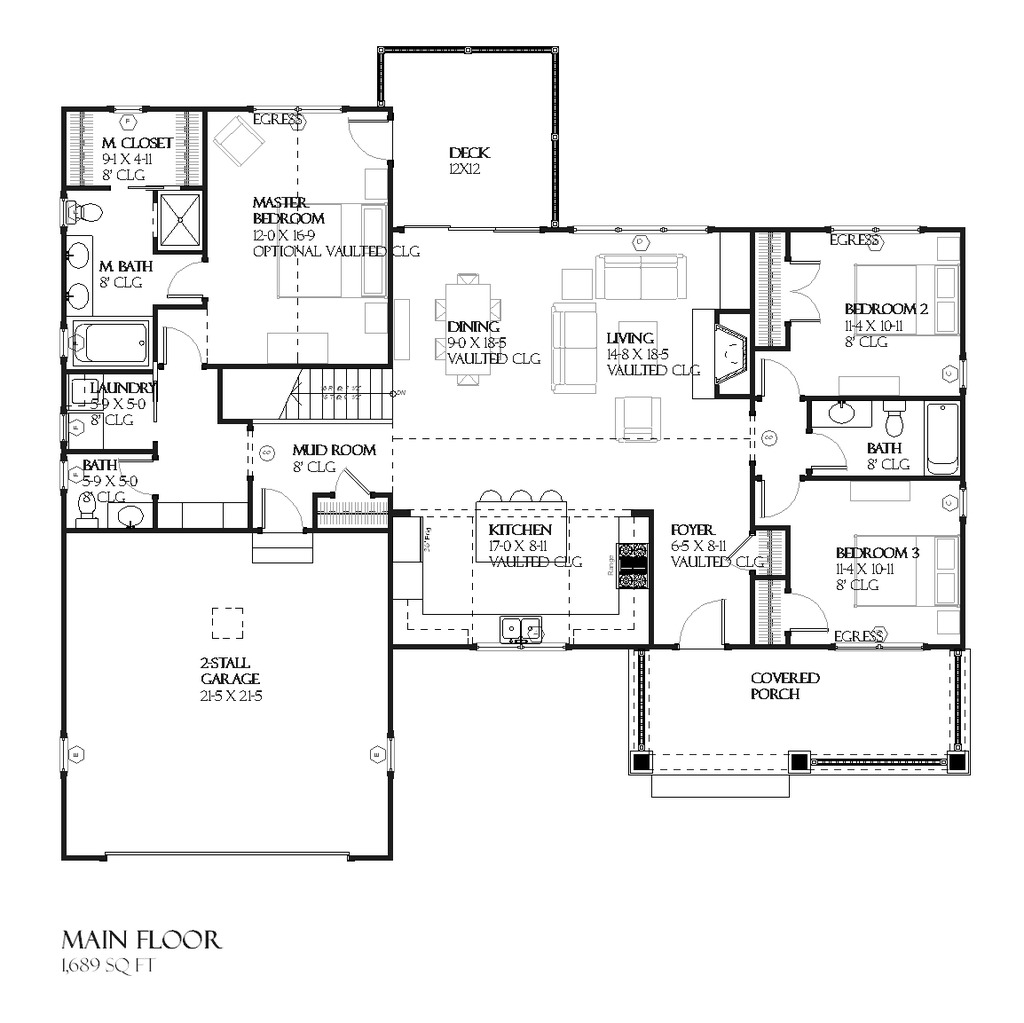bed: (265, 181, 398, 296), (850, 261, 965, 340), (850, 534, 965, 608)
dining_table: (434, 267, 514, 396)
door: (758, 346, 812, 408), (777, 254, 822, 323), (252, 484, 309, 537), (671, 599, 725, 648), (153, 326, 206, 372), (342, 118, 393, 165), (155, 261, 207, 305), (809, 429, 850, 470), (328, 465, 376, 500), (788, 592, 831, 629), (765, 478, 798, 518)
kitchen_bar: (460, 489, 582, 570)
large_sink: (60, 189, 111, 229), (77, 491, 107, 531), (884, 396, 911, 440)
large_sofa: (549, 297, 607, 397), (598, 246, 691, 299)
small_sink: (61, 240, 101, 316), (819, 397, 871, 429), (107, 500, 153, 527)
small_sofa: (217, 116, 265, 173), (611, 394, 666, 437)
stairs: (215, 365, 406, 419)
tub: (71, 321, 150, 365), (926, 399, 958, 483)
